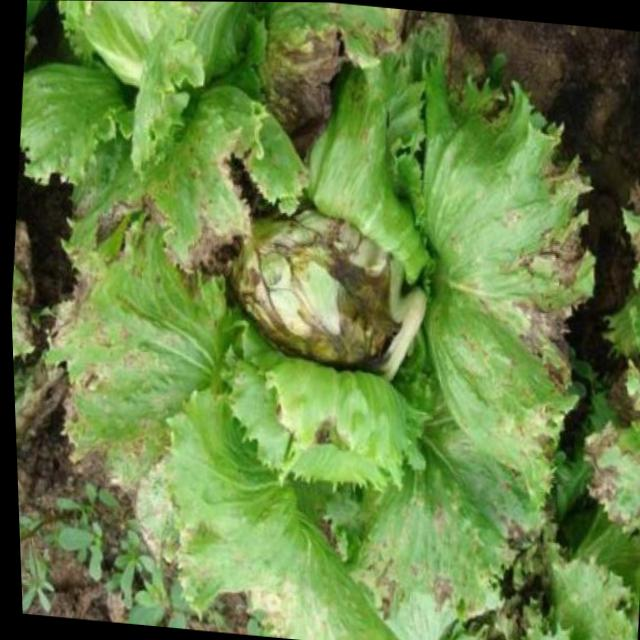Bad: (61, 69, 576, 640)
